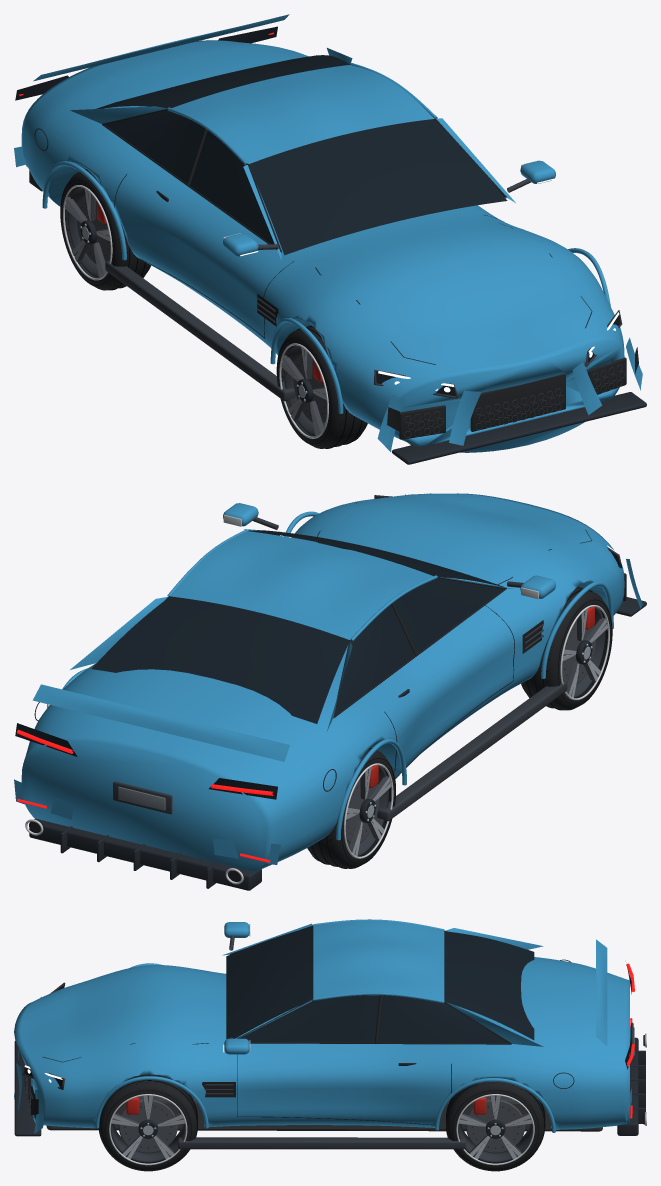
File: pass1-supra-occluded.glb
3 renders of one model, top to bottom at view 1: azimuth 30°, elevation 25°; view 2: azimuth 150°, elevation 25°; view 3: azimuth 270°, elevation 25°, orthographic. The views are drawn at different scales.
Visible parts, largest first — view 1: Web_Chassis_Rig_supra_Exterior_NewPaint, Web_Chassis_Rig_Detail_Glass_Tinted, Web_Chassis_Rig_Rubber, Web_Chassis_Rig_Graphite metal, Web_Chassis_Rig_Finish_CarbonWeave, Web_Wheel_FR_Rubber, Web_Wheel_RR_Rubber, Web_Chassis_Rig_Finish_LampPolymer, Finish_SplitSpokes_FR, Finish_SplitSpokes_RR, Brake rotor.001, Web_Wheel_RR_Graphite metal (+2 smaller); view 2: Web_Chassis_Rig_supra_Exterior_NewPaint, Web_Chassis_Rig_Detail_Glass_Tinted, Web_Chassis_Rig_Finish_CarbonWeave, Web_Chassis_Rig_Graphite metal, Web_Wheel_FR_Rubber, Web_Wheel_RR_Rubber, Web_Chassis_Rig_Rubber, Web_Chassis_Rig_Finish_LampPolymer, Finish_SplitSpokes_RR, Finish_SplitSpokes_FR, Brake rotor, Web_Chassis_Rig_Red LED (+5 smaller); view 3: Web_Chassis_Rig_supra_Exterior_NewPaint, Web_Chassis_Rig_Detail_Glass_Tinted, Web_Chassis_Rig_Graphite metal, Web_Wheel_FL_Rubber, Web_Wheel_RL_Rubber, Continuous_central_floor_pan, Web_Chassis_Rig_Finish_CarbonWeave, Web_Chassis_Rig_Rubber, Brake rotor.003, Brake rotor.002, Finish_SplitSpokes_FL, Finish_SplitSpokes_RL (+6 smaller).
Boxes of the visible parts, bbox=[...] form: Web_Chassis_Rig_supra_Exterior_NewPaint: bbox=[14, 14, 642, 452]; Web_Chassis_Rig_Detail_Glass_Tinted: bbox=[96, 55, 507, 255]; Web_Chassis_Rig_Rubber: bbox=[34, 64, 638, 439]; Web_Chassis_Rig_Graphite metal: bbox=[105, 178, 625, 438]; Web_Chassis_Rig_Finish_CarbonWeave: bbox=[29, 170, 646, 464]; Web_Wheel_FR_Rubber: bbox=[276, 326, 367, 448]; Web_Wheel_RR_Rubber: bbox=[60, 170, 151, 290]; Web_Chassis_Rig_Finish_LampPolymer: bbox=[15, 26, 620, 395]; Finish_SplitSpokes_FR: bbox=[281, 347, 326, 436]; Finish_SplitSpokes_RR: bbox=[65, 188, 110, 277]; Brake rotor.001: bbox=[293, 354, 326, 423]; Web_Wheel_RR_Graphite metal: bbox=[67, 187, 98, 278]; Web_Chassis_Rig_supra_Exterior_NewPaint: bbox=[14, 493, 642, 871]; Web_Chassis_Rig_Detail_Glass_Tinted: bbox=[91, 530, 504, 723]; Web_Chassis_Rig_Finish_CarbonWeave: bbox=[29, 597, 646, 890]; Web_Chassis_Rig_Graphite metal: bbox=[113, 495, 622, 821]; Web_Wheel_FR_Rubber: bbox=[521, 588, 612, 710]; Web_Wheel_RR_Rubber: bbox=[307, 748, 395, 868]; Web_Chassis_Rig_Rubber: bbox=[29, 493, 626, 881]; Web_Chassis_Rig_Finish_LampPolymer: bbox=[15, 497, 619, 799]; Finish_SplitSpokes_RR: bbox=[346, 767, 391, 856]; Finish_SplitSpokes_FR: bbox=[562, 609, 607, 697]; Brake rotor: bbox=[345, 779, 379, 843]; Web_Chassis_Rig_Red LED: bbox=[17, 729, 273, 862]; Web_Chassis_Rig_supra_Exterior_NewPaint: bbox=[14, 919, 631, 1133]; Web_Chassis_Rig_Detail_Glass_Tinted: bbox=[226, 926, 534, 1043]; Web_Chassis_Rig_Graphite metal: bbox=[23, 935, 633, 1149]; Web_Wheel_FL_Rubber: bbox=[99, 1074, 197, 1171]; Web_Wheel_RL_Rubber: bbox=[446, 1082, 544, 1171]; Continuous_central_floor_pan: bbox=[46, 1095, 602, 1131]; Web_Chassis_Rig_Finish_CarbonWeave: bbox=[14, 1037, 645, 1136]; Web_Chassis_Rig_Rubber: bbox=[28, 925, 644, 1124]; Brake rotor.003: bbox=[118, 1100, 177, 1153]; Brake rotor.002: bbox=[466, 1100, 524, 1153]; Finish_SplitSpokes_FL: bbox=[111, 1095, 184, 1159]; Finish_SplitSpokes_RL: bbox=[458, 1095, 532, 1159].
Size of the model in its own units: 2.12 by 1.32 by 4.5.
